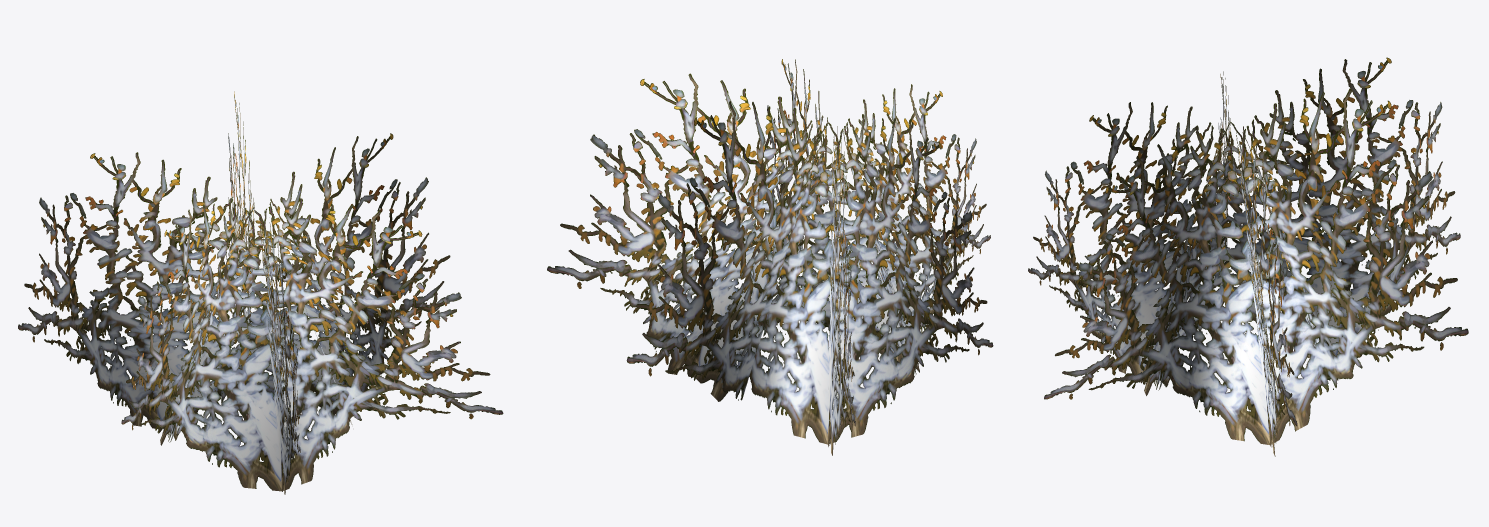
The model's file is winterspringbush01.obj.
The picture shows the model from 3 angles, left to right: view 1: azimuth 30°, elevation 25°; view 2: azimuth 150°, elevation 25°; view 3: azimuth 270°, elevation 25°; orthographic projection. The views are drawn at different scales.
Parts seen in each view (by area): view 1: winterspringbush01; view 2: winterspringbush01; view 3: winterspringbush01.
Boxes of the visible parts, x1,y1,x2,y2 form: winterspringbush01: [18, 91, 503, 494]; winterspringbush01: [547, 59, 993, 455]; winterspringbush01: [1028, 57, 1468, 456].
Bounding box in the file's own units: 2.95 × 2.46 × 2.81.
Materials: 1 (1 with a texture image).
